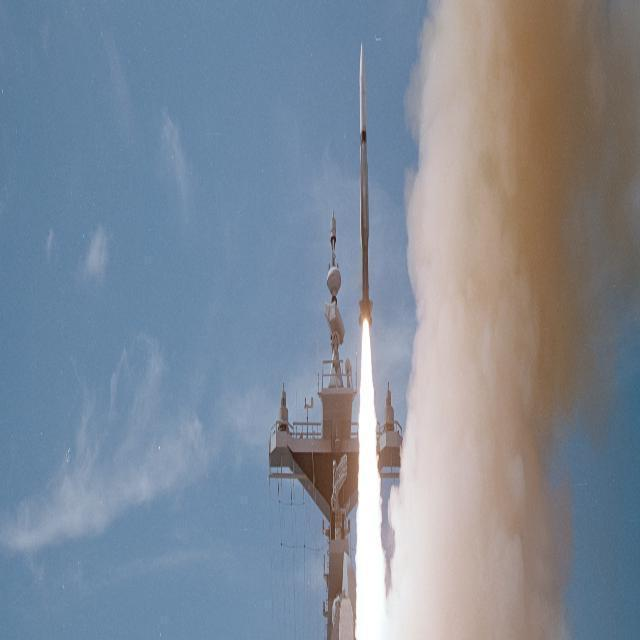missile: (352, 37, 377, 327)
